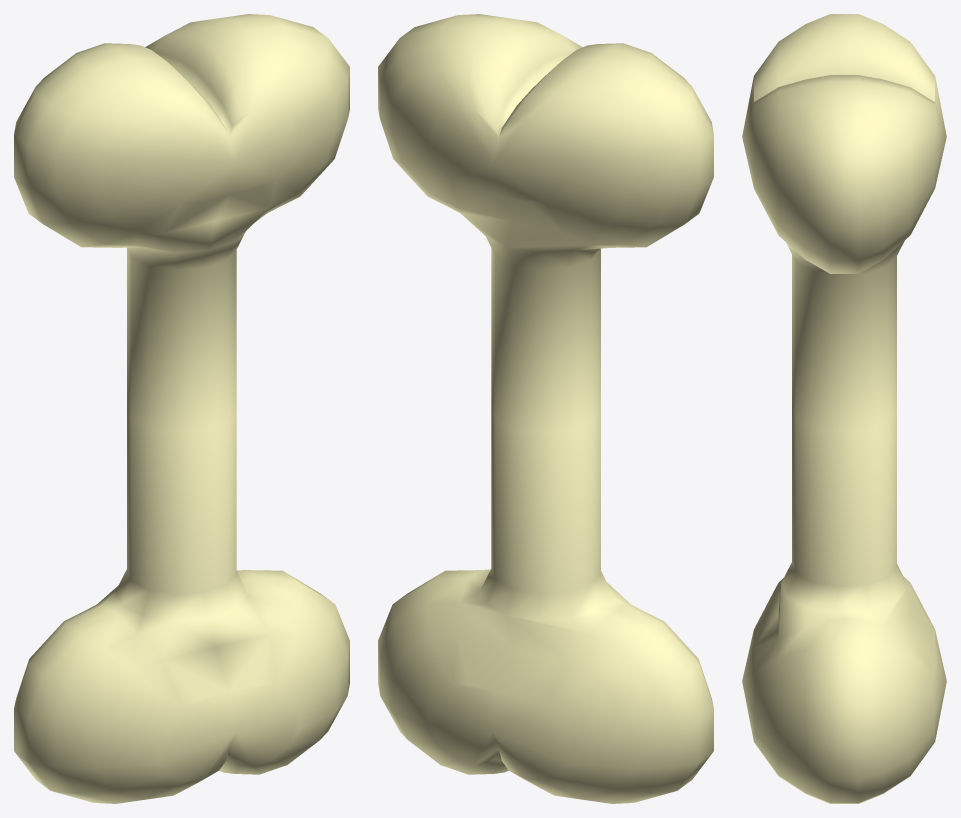
Rendered from bone.fbx.
3 views of the same model, side by side, from view 1: azimuth 30°, elevation 25°; view 2: azimuth 150°, elevation 25°; view 3: azimuth 270°, elevation 25° (orthographic). The views are drawn at different scales.
Visible parts, largest first — view 1: Cube.002; view 2: Cube.002; view 3: Cube.002.
Boxes of the visible parts, <box> form: Cube.002: <box>14,14,349,803</box>; Cube.002: <box>378,14,713,803</box>; Cube.002: <box>742,14,946,803</box>.
Size of the model in its own units: 203 by 446 by 117.
